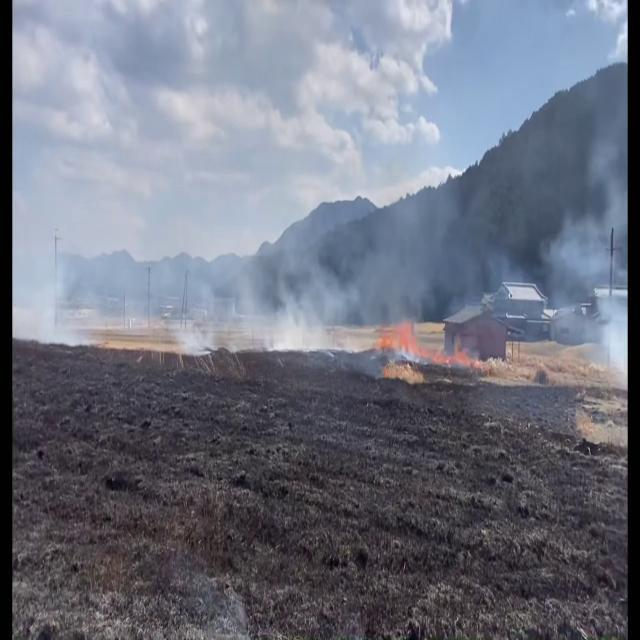Smoke: (189, 132, 508, 366), (551, 91, 640, 374)
